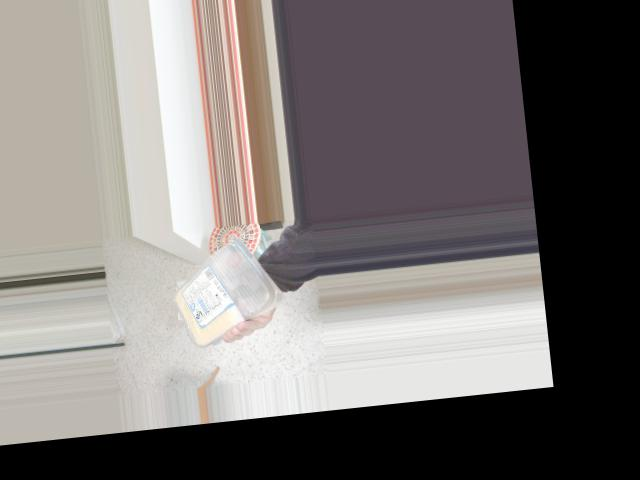cheese: (165, 238, 272, 336)
